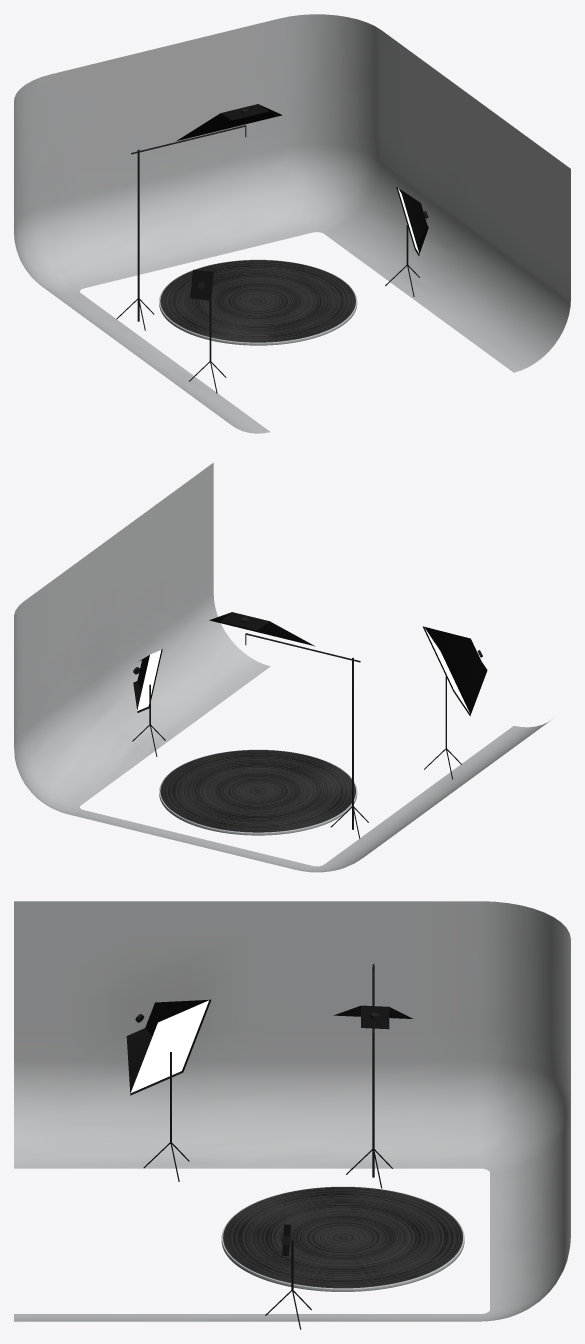
File: studio-hi-v1.glb
3 renders of one model, top to bottom at view 1: azimuth 30°, elevation 25°; view 2: azimuth 150°, elevation 25°; view 3: azimuth 270°, elevation 25°, orthographic. The views are drawn at different scales.
Parts seen in each view (by area): view 1: cyclorama, turntable_disc, softbox_3_head, softbox_2_head, softbox_3_stand, softbox_1_head; view 2: cyclorama, turntable_disc, softbox_1_head, softbox_3_head, softbox_2_head, softbox_3_stand; view 3: cyclorama, turntable_disc, softbox_1_head, softbox_3_head, softbox_3_stand.
Part boxes in pixels (<box>): cyclorama: <box>14,14,570,433</box>; turntable_disc: <box>159,259,357,345</box>; softbox_3_head: <box>176,104,282,141</box>; softbox_2_head: <box>396,187,428,255</box>; softbox_3_stand: <box>116,125,246,330</box>; softbox_1_head: <box>190,269,213,300</box>; cyclorama: <box>14,463,550,872</box>; turntable_disc: <box>159,749,357,835</box>; softbox_1_head: <box>422,626,487,716</box>; softbox_3_head: <box>209,612,315,646</box>; softbox_2_head: <box>133,649,162,712</box>; softbox_3_stand: <box>245,633,368,838</box>; cyclorama: <box>14,901,570,1321</box>; turntable_disc: <box>221,1186,464,1291</box>; softbox_1_head: <box>126,999,211,1095</box>; softbox_3_head: <box>333,1005,412,1029</box>; softbox_3_stand: <box>346,964,392,1188</box>.
Size of the model in its own units: 10 by 5.09 by 11.
6 materials, 1 textured.
